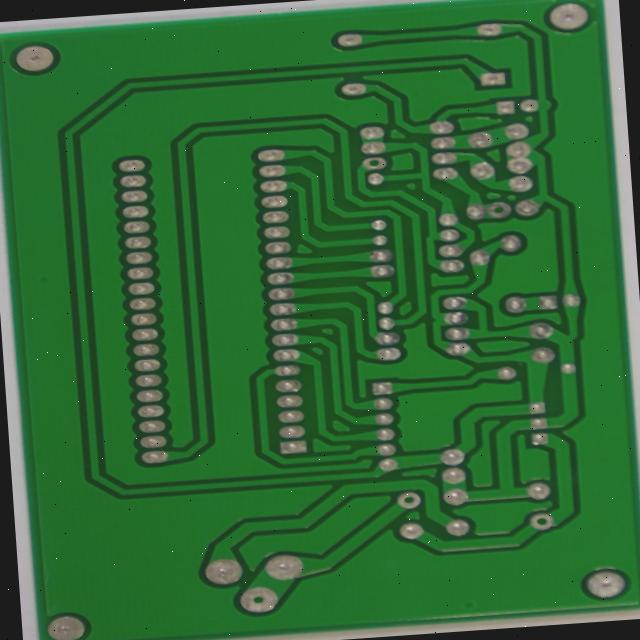missing_hole: (203, 584, 247, 618), (468, 185, 505, 208), (514, 506, 548, 531), (373, 485, 407, 509), (335, 138, 369, 159)
